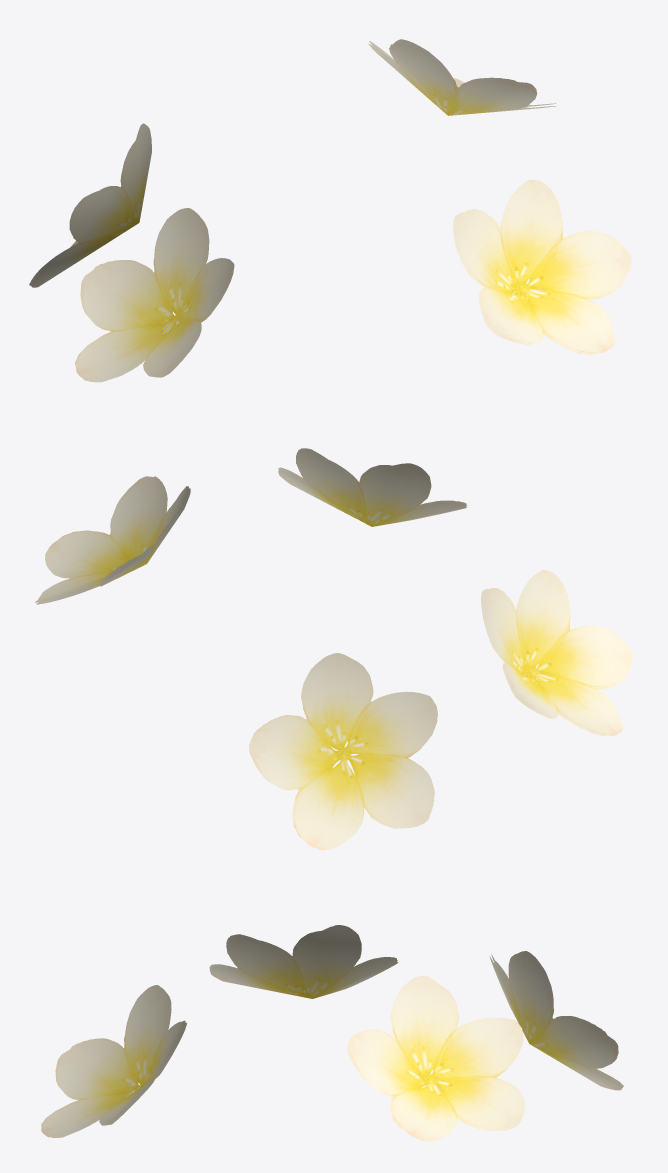
The model's file is Furniture_Plants_33_2.fbx.
3 renders of one model, top to bottom at view 1: azimuth 30°, elevation 25°; view 2: azimuth 150°, elevation 25°; view 3: azimuth 270°, elevation 25°, orthographic. The views are drawn at different scales.
Parts seen in each view (by area): view 1: Furniture_Plants_33_2; view 2: Furniture_Plants_33_2; view 3: Furniture_Plants_33_2.
Boxes of the visible parts, x1=… form: Furniture_Plants_33_2: x1=29, y1=39, x2=631, y2=382; Furniture_Plants_33_2: x1=35, y1=448, x2=633, y2=850; Furniture_Plants_33_2: x1=41, y1=925, x2=623, y2=1141.
Size of the model in its own units: 153 by 72.13 by 159.
